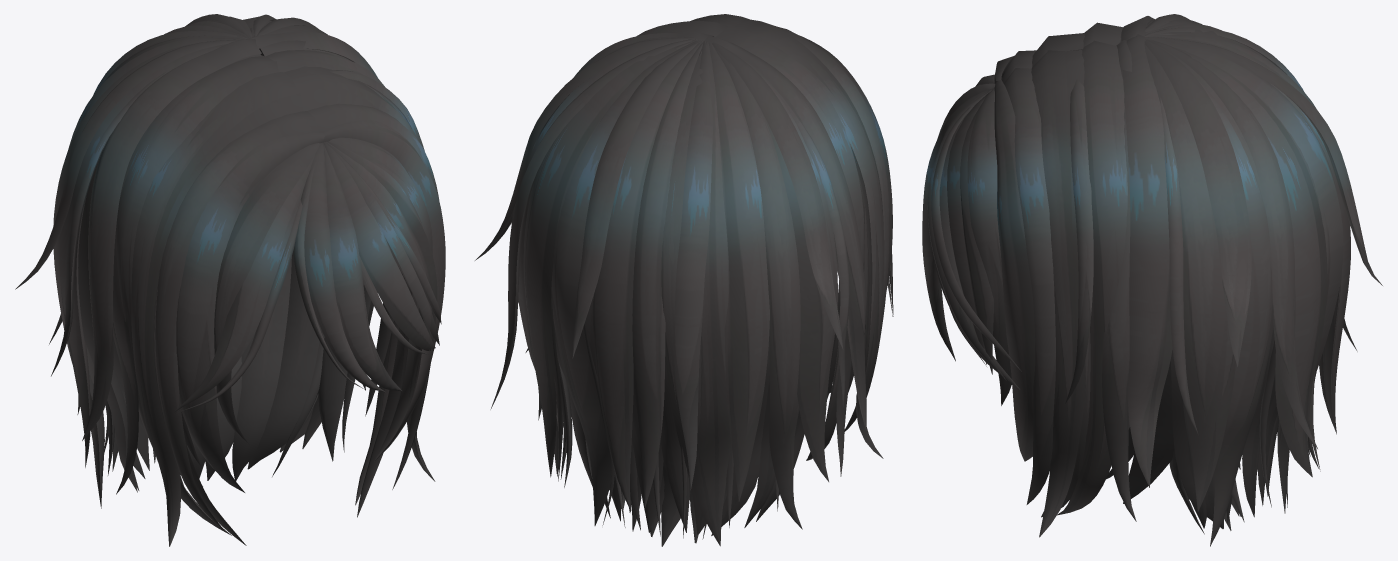
The model's file is vroid_hair_sX.glb.
3 views of the same model, side by side, from view 1: azimuth 30°, elevation 25°; view 2: azimuth 150°, elevation 25°; view 3: azimuth 270°, elevation 25° (orthographic). The views are drawn at different scales.
Parts seen in each view (by area): view 1: part; view 2: part; view 3: part.
Part boxes in pixels (box(x1,y1,x2,y2)): part: box(15, 14, 445, 546); part: box(475, 14, 893, 546); part: box(922, 14, 1382, 546).
Size of the model in its own units: 0.2279 by 0.2805 by 0.2413.
Materials: 1 (1 with a texture image).
